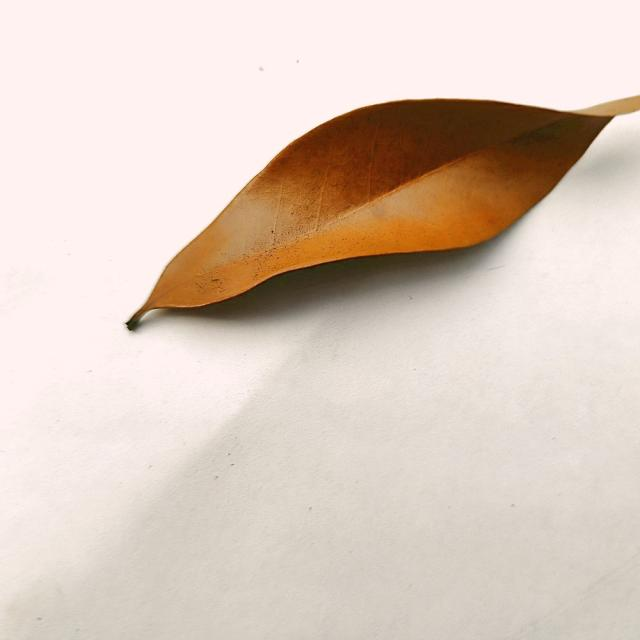Dry_Leaf-Lychee: (127, 96, 639, 332)
